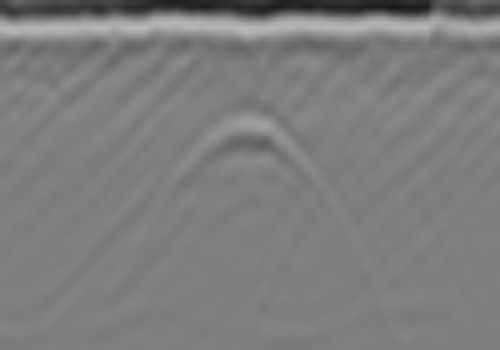hyperbola: (130, 100, 356, 289)
